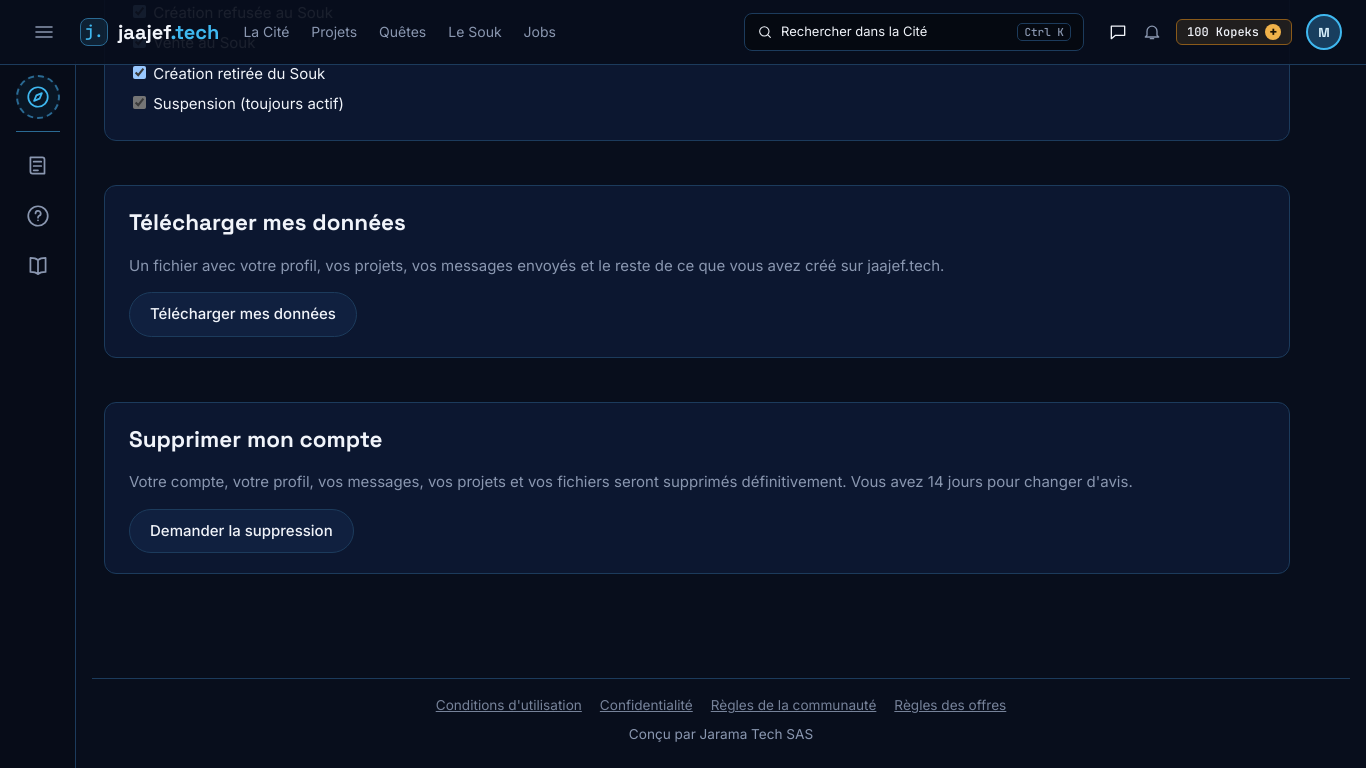
Test: Settings › asks twice before deleting, and "no" changes nothing
(page scrolled)
Step 1. Click the button "Demander la suppression" → (241, 531), box 129,509 -> 354,553
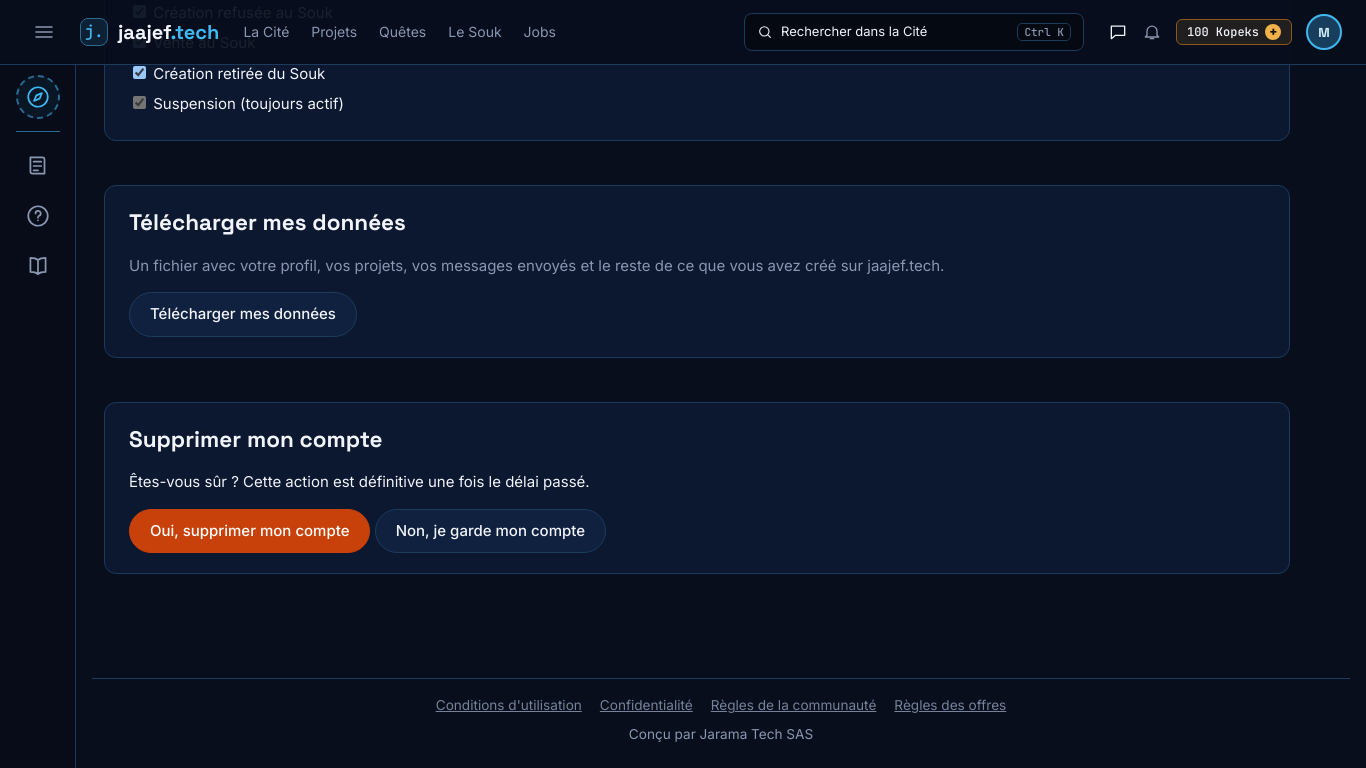
Step 2. Click the button "Non, je garde mon compte" → (490, 531), box 375,509 -> 606,553
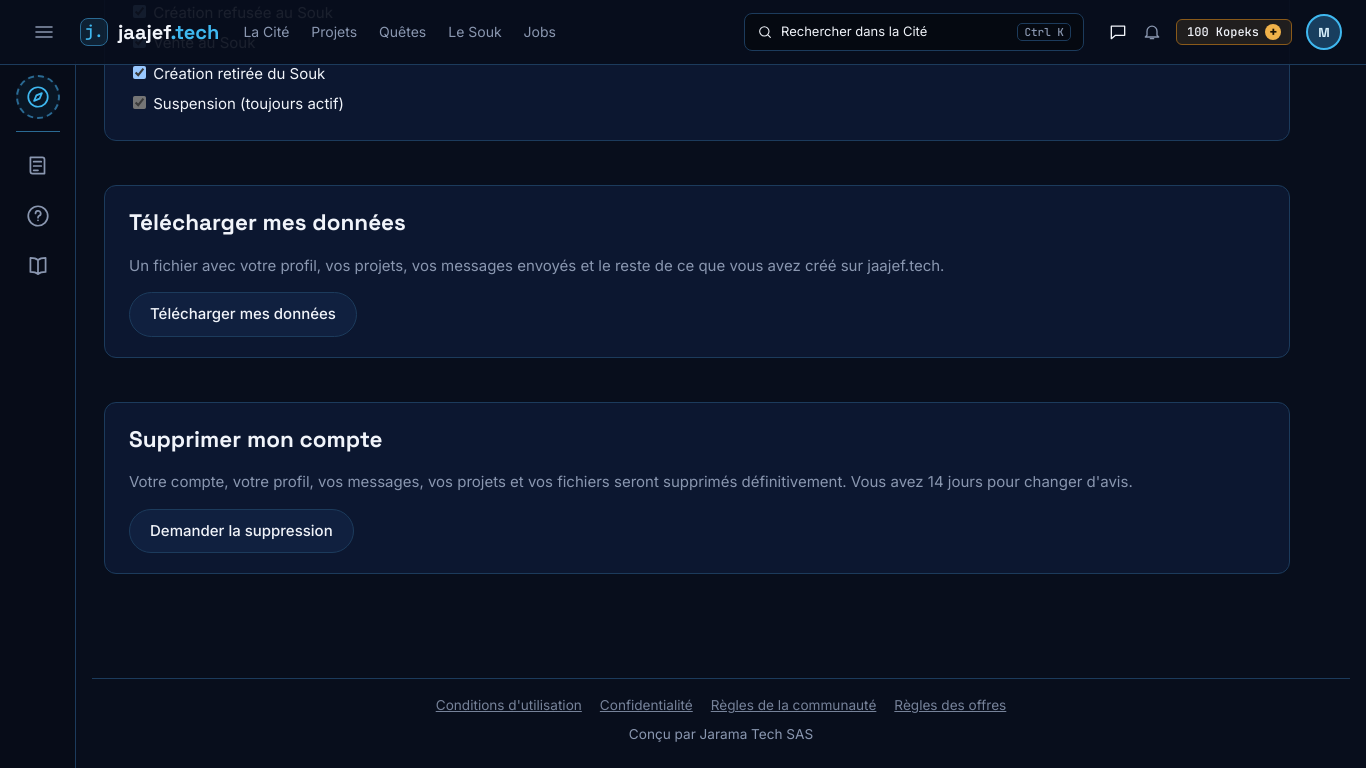
Now the button "Demander la suppression" is shown, box 129,509 -> 354,553
